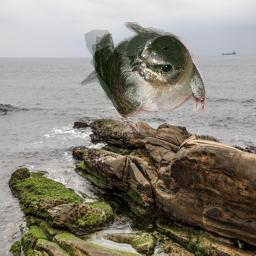Swallow: (77, 22, 208, 140)
